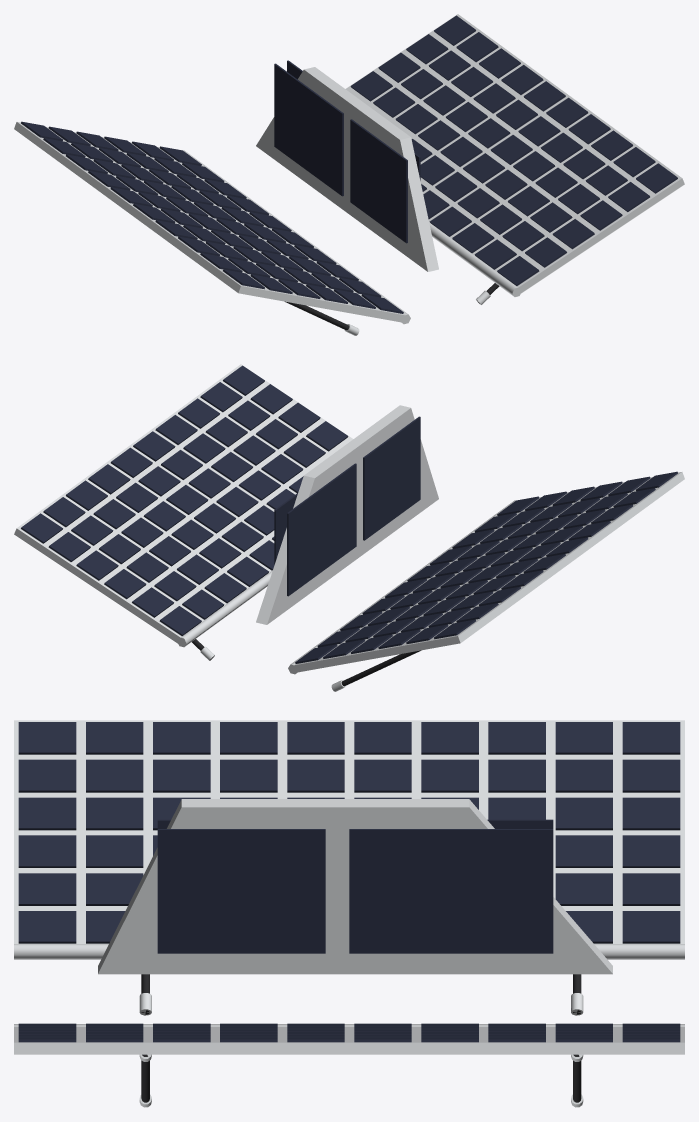
The model's file is e1_array.obj.
3 renders of one model, top to bottom at view 1: azimuth 30°, elevation 25°; view 2: azimuth 150°, elevation 25°; view 3: azimuth 270°, elevation 25°, orthographic. The views are drawn at different scales.
Visible parts, largest first — view 1: e1_array; view 2: e1_array; view 3: e1_array.
Boxes of the visible parts, left/top/right/bottom form: e1_array: left=14, top=14, right=684, bottom=335; e1_array: left=14, top=364, right=684, bottom=691; e1_array: left=14, top=720, right=684, bottom=1107.
Size of the model in its own units: 3.22 by 1.19 by 2.8.
